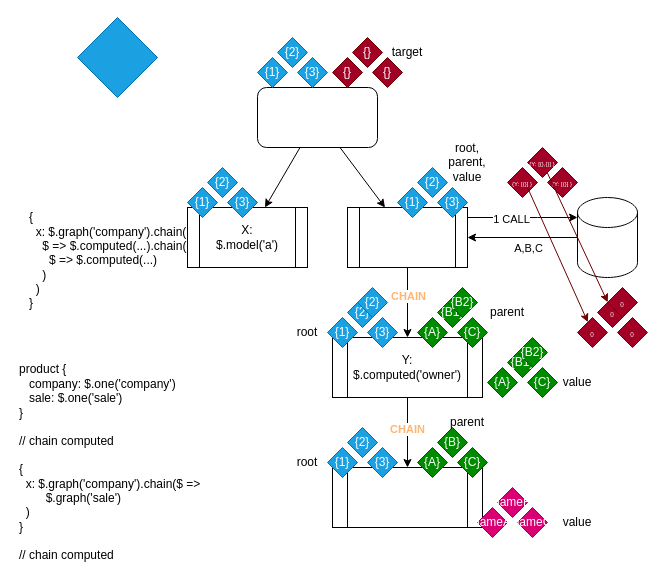
The diagram is 665 pixels wide and 580 high, and some of its shapes have lost their labels. Here are the shapes that lost their labels. From the top down, the box of each, then its label:
(76, 16, 158, 98): { id: 1, a: 3 }
(256, 86, 378, 148): default
(346, 206, 468, 268): Y: $.graph(...)
(332, 466, 482, 528): Y: $.computed(...)
